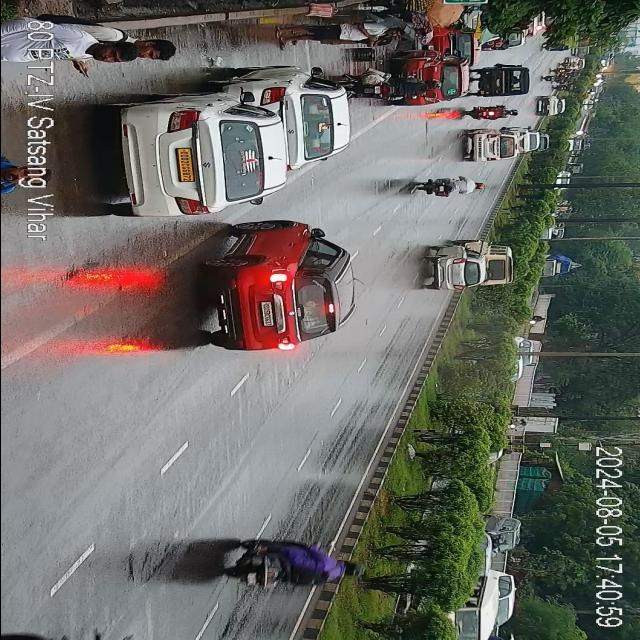2-wheelers: (226, 538, 360, 592), (348, 72, 436, 97), (0, 629, 142, 640), (411, 176, 486, 196), (520, 15, 552, 42), (463, 104, 523, 118)
auto: (462, 128, 516, 164), (476, 64, 528, 100)
car: (118, 92, 288, 214), (204, 218, 356, 350), (235, 72, 352, 166), (444, 555, 516, 640), (422, 242, 480, 296), (404, 53, 462, 105), (456, 237, 512, 283), (426, 32, 482, 68), (520, 128, 546, 156), (536, 95, 562, 121)
pedestrian: (69, 26, 183, 70), (279, 26, 399, 42), (364, 34, 412, 46)
